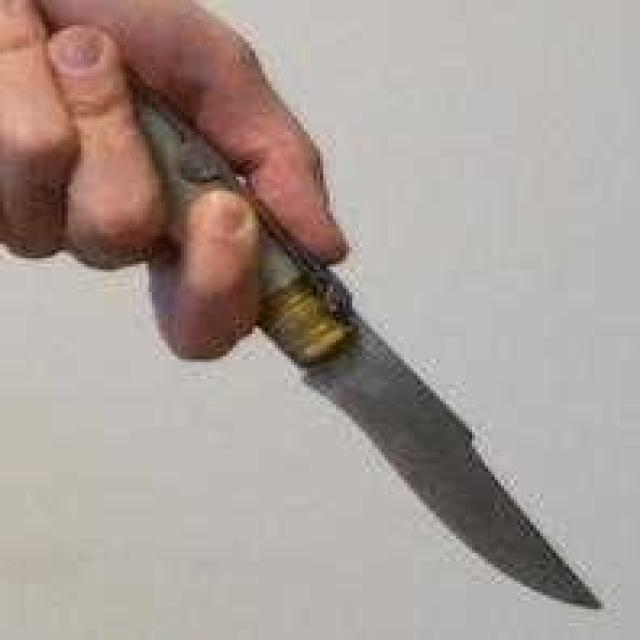Knife: (73, 35, 613, 624)
